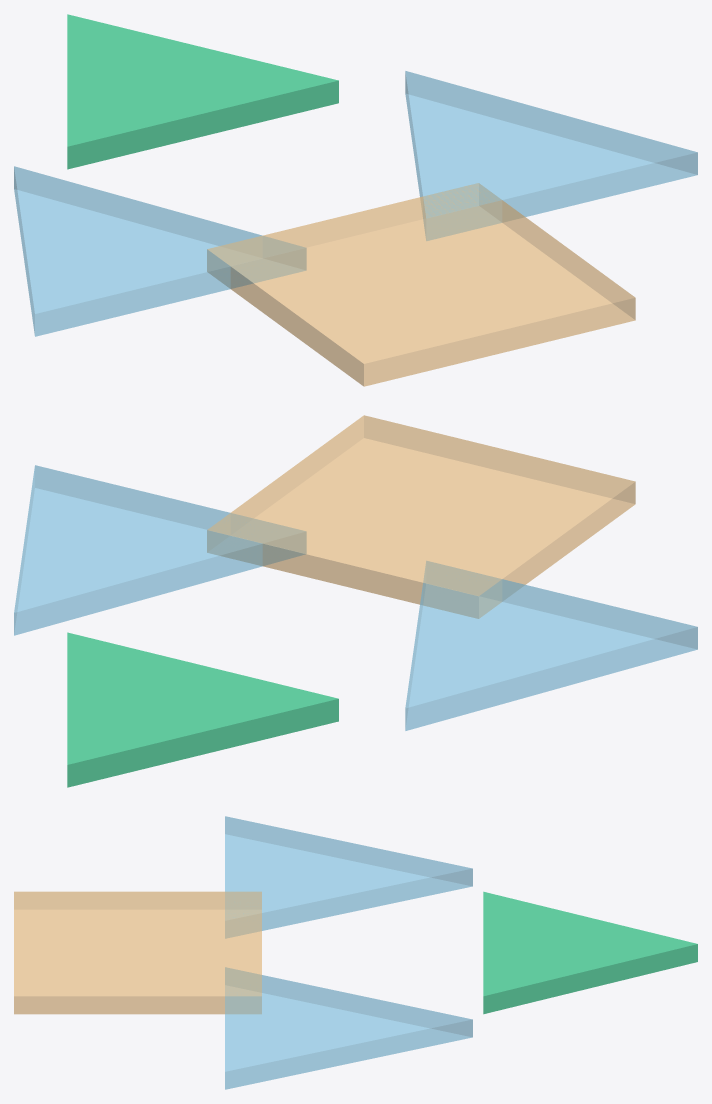
The model's file is albero_step4.glb.
3 views of the same model, one above another, from view 1: azimuth 30°, elevation 25°; view 2: azimuth 150°, elevation 25°; view 3: azimuth 270°, elevation 25° (orthographic). The views are drawn at different scales.
Parts seen in each view (by area): view 1: quadrato_piccolo, triangolo_isoscele_grande, triangolo_isoscele_grande.001, triangolo_equilatero; view 2: quadrato_piccolo, triangolo_isoscele_grande, triangolo_isoscele_grande.001, triangolo_equilatero; view 3: quadrato_piccolo, triangolo_isoscele_grande.001, triangolo_isoscele_grande, triangolo_equilatero.
Part boxes in pixels (x1=…): quadrato_piccolo: x1=207, y1=183, x2=635, y2=386; triangolo_isoscele_grande: x1=14, y1=166, x2=306, y2=336; triangolo_isoscele_grande.001: x1=405, y1=71, x2=697, y2=240; triangolo_equilatero: x1=67, y1=14, x2=338, y2=169; quadrato_piccolo: x1=207, y1=415, x2=635, y2=618; triangolo_isoscele_grande: x1=405, y1=561, x2=697, y2=730; triangolo_isoscele_grande.001: x1=14, y1=465, x2=306, y2=635; triangolo_equilatero: x1=67, y1=632, x2=338, y2=787; quadrato_piccolo: x1=14, y1=891, x2=261, y2=1014; triangolo_isoscele_grande.001: x1=225, y1=967, x2=472, y2=1089; triangolo_isoscele_grande: x1=225, y1=816, x2=472, y2=938; triangolo_equilatero: x1=483, y1=891, x2=697, y2=1014.
Bounding box in the file's own units: 2.44 × 0.08 × 2.76.
